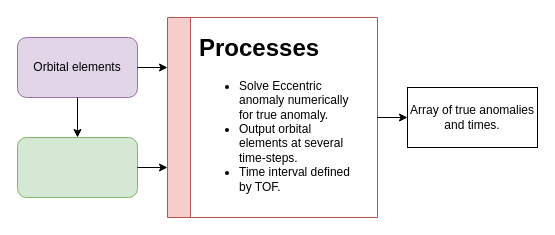
Image size: 555x235. Some labels were removed from this diagram. Here are the shapes that lost their labels. From the top down, the box of each, then its label:
(166, 16, 378, 218): State Machine
(16, 136, 138, 198): TOF
